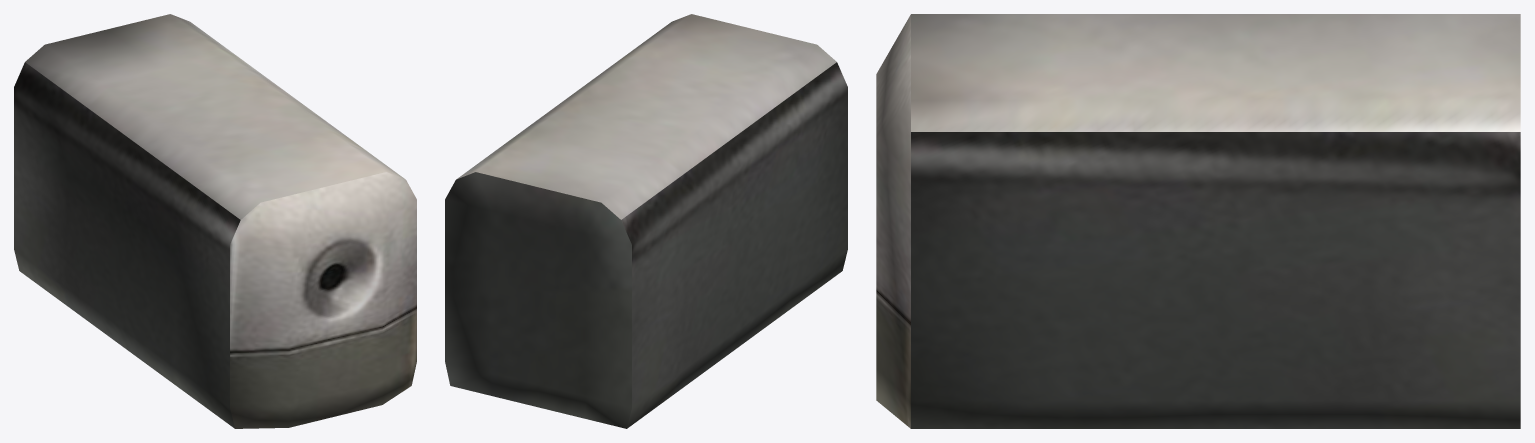
The model's file is Pencil Sharpener.fbx.
3 views of the same model, side by side, from view 1: azimuth 30°, elevation 25°; view 2: azimuth 150°, elevation 25°; view 3: azimuth 270°, elevation 25° (orthographic). The views are drawn at different scales.
Visible parts, largest first — view 1: Pencil_Shapener; view 2: Pencil_Shapener; view 3: Pencil_Shapener.
Part boxes in pixels (<box>): Pencil_Shapener: <box>14,14,416,428</box>; Pencil_Shapener: <box>445,14,847,428</box>; Pencil_Shapener: <box>876,14,1520,428</box>.
Size of the model in its own units: 2 by 2.25 by 4.23.
